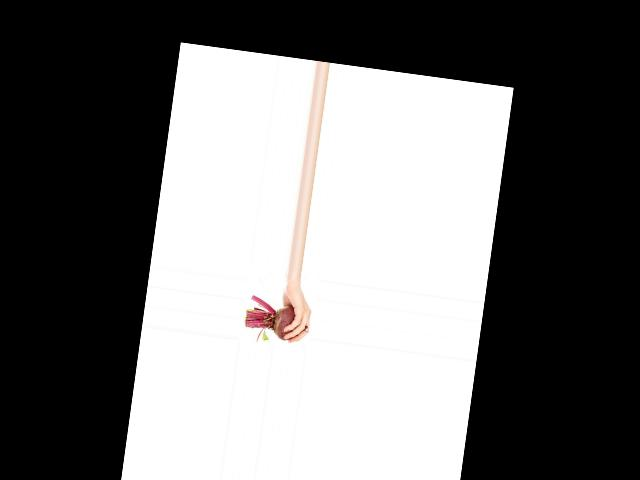beet: (242, 294, 311, 348)
